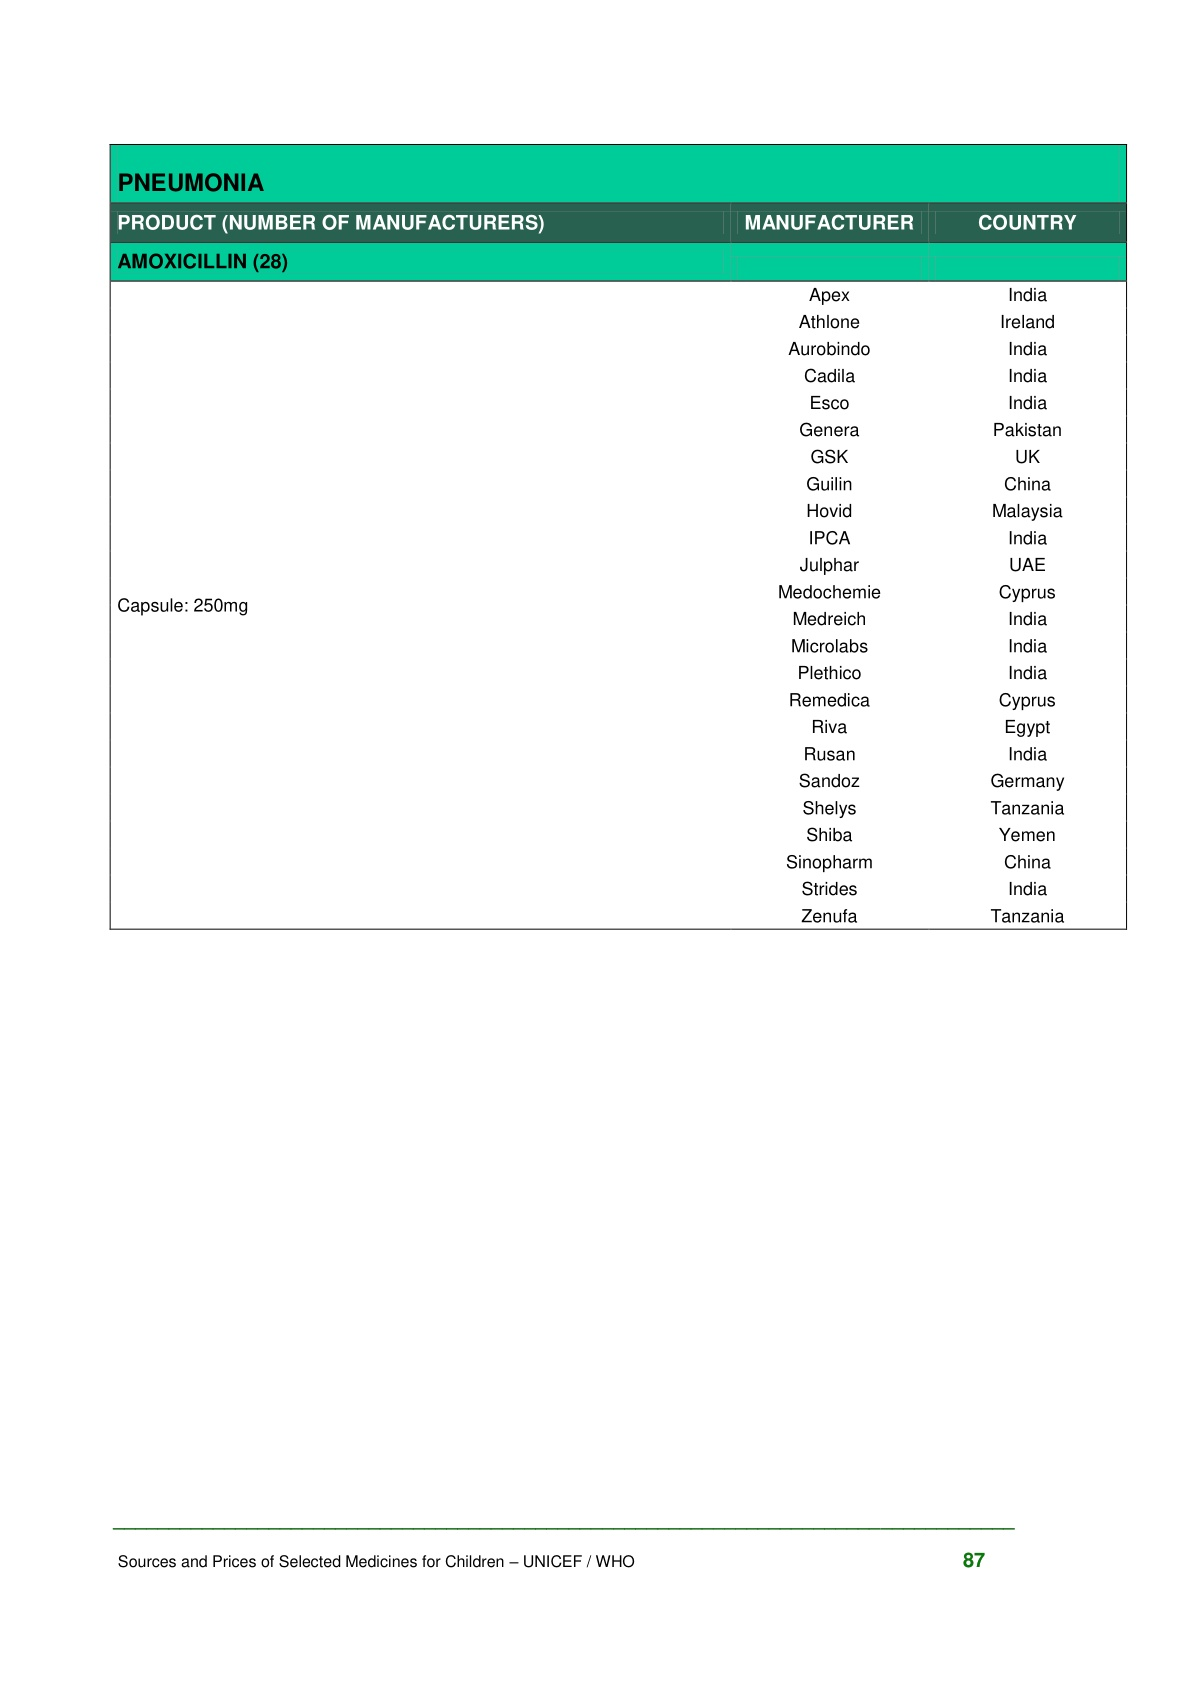partial_lined_merged_cells: (107, 140, 1130, 934)
